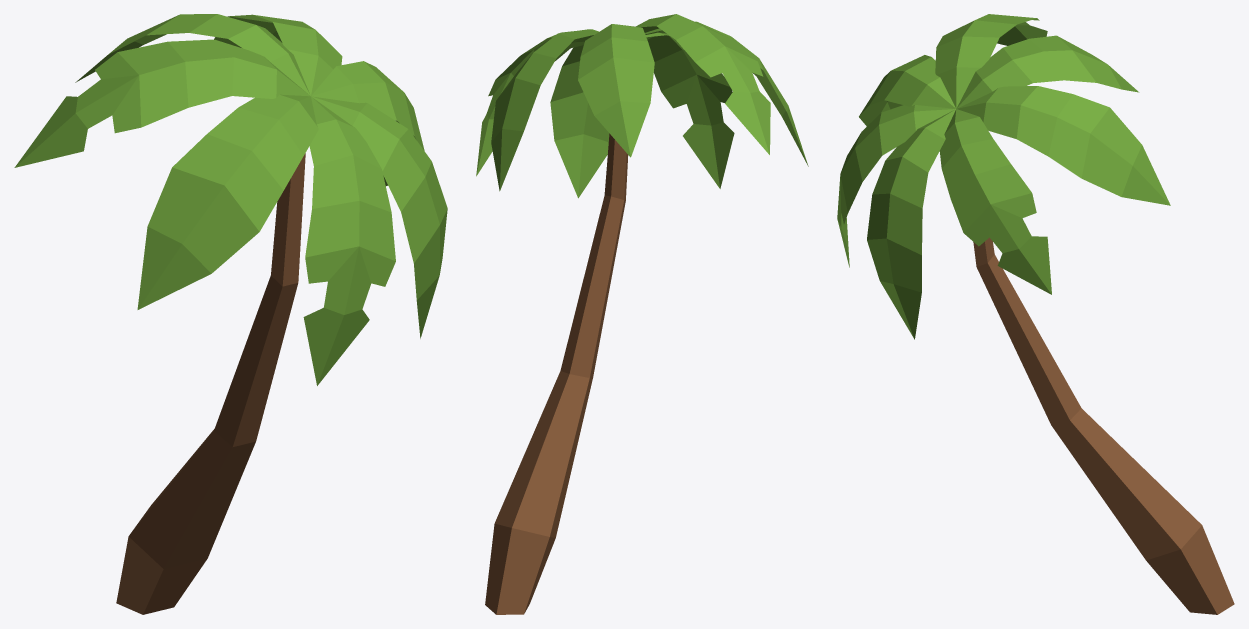
File: palm-angle.glb
3 renders of one model, left to right at view 1: azimuth 30°, elevation 25°; view 2: azimuth 150°, elevation 25°; view 3: azimuth 270°, elevation 25°, orthographic. The views are drawn at different scales.
Parts seen in each view (by area): view 1: palm-angle; view 2: palm-angle; view 3: palm-angle.
Boxes of the visible parts, x1,y1,x2,y2 form: palm-angle: [14, 14, 447, 614]; palm-angle: [476, 14, 808, 614]; palm-angle: [837, 14, 1234, 614].
Bounding box in the file's own units: 2.44 × 4.15 × 2.75.
Materials: 1 (1 with a texture image).
